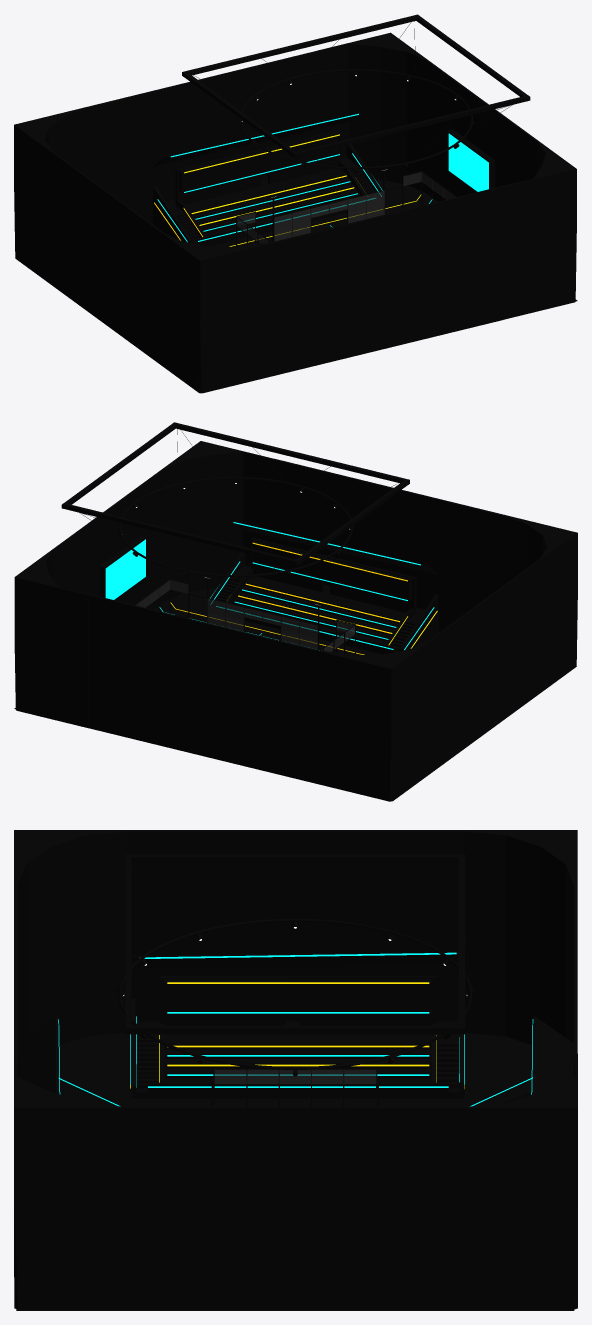
File: TacPadel.glb
3 renders of one model, top to bottom at view 1: azimuth 30°, elevation 25°; view 2: azimuth 150°, elevation 25°; view 3: azimuth 270°, elevation 25°, orthographic. The views are drawn at different scales.
Parts seen in each view (by area): view 1: Würfel.002, Tribüne, Boden, Würfel.026, Stahlträger.005, Stahlträger.002, Stahlträger.001, Kreis, Gitter, Gitter.001; view 2: Würfel.002, Tribüne, Boden, Würfel.026, Stahlträger.005, Stahlträger.001, Stahlträger.002, Kreis, Gitter.001, Gitter; view 3: Würfel.002, Tribüne.001, Boden, Stahlträger.005, Tribüne, Kreis, Stahlträger.002, Stahlträger.001, Glas.005, Glas.006.
Part boxes in pixels (x1,y1,x2,y2): Würfel.002: [14, 32, 576, 393]; Tribüne: [152, 111, 534, 319]; Boden: [199, 179, 577, 393]; Würfel.026: [447, 129, 495, 192]; Stahlträger.005: [184, 15, 527, 155]; Stahlträger.002: [292, 95, 530, 157]; Stahlträger.001: [182, 14, 419, 76]; Kreis: [239, 69, 473, 169]; Gitter: [274, 191, 384, 241]; Gitter.001: [292, 195, 366, 236]; Würfel.002: [14, 441, 577, 801]; Tribüne: [208, 519, 438, 654]; Boden: [14, 587, 381, 709]; Würfel.026: [99, 535, 147, 600]; Stahlträger.005: [64, 424, 407, 563]; Stahlträger.001: [61, 503, 299, 565]; Stahlträger.002: [172, 422, 409, 484]; Kreis: [118, 477, 352, 576]; Gitter.001: [225, 603, 299, 645]; Gitter: [207, 599, 317, 649]; Würfel.002: [14, 830, 577, 1309]; Tribüne.001: [130, 951, 464, 1098]; Boden: [16, 1032, 574, 1310]; Stahlträger.005: [131, 854, 465, 1034]; Tribüne: [14, 1016, 573, 1276]; Kreis: [118, 918, 472, 1069]; Stahlträger.002: [125, 854, 131, 1034]; Stahlträger.001: [459, 856, 465, 1034]; Glas.005: [214, 1069, 375, 1084]; Glas.006: [247, 1069, 343, 1084].
Size of the model in its own units: 41.04 by 18.78 by 34.98.
Materials: 9 (1 with a texture image).
